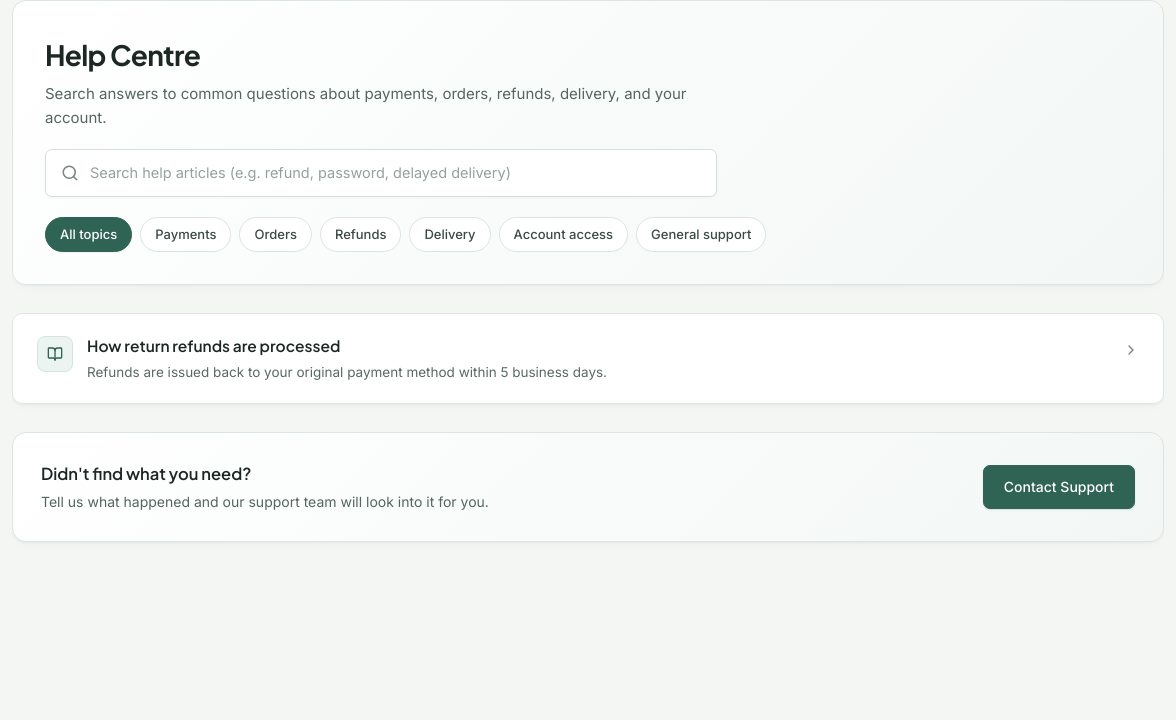
QRYVANTA Customer Portal Redesign › renders Help Centre published articles, reader view, and Contact Support CTA
Expected: the heading "Didn't find what you need?" is shown, [41, 464, 251, 484]
Expected: the link "Contact Support" is shown, [983, 465, 1135, 509]
Click the heading "How return refunds are processed": [214, 345] box [87, 336, 340, 354]
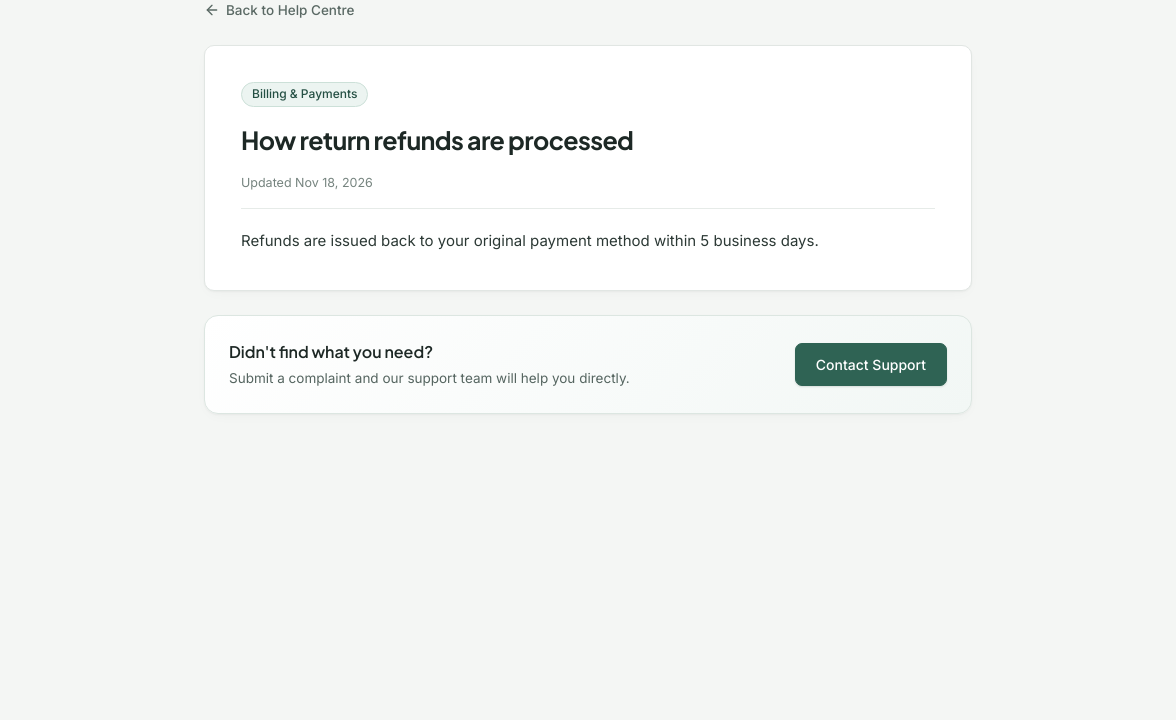
Expected: the button "Back to Help Centre" is shown, [204, 0, 354, 21]
